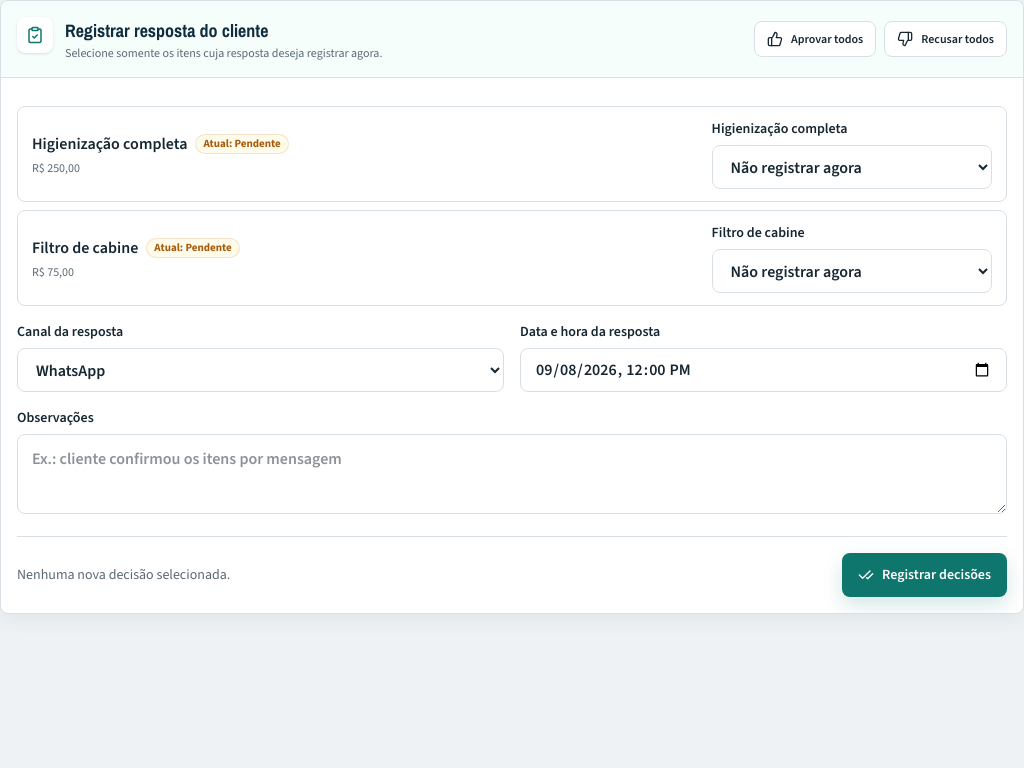
Test: painel de aprovação › impede o envio sem qualquer decisão
This screenshot has width=1024, height=768.
Click the button "Registrar decisões": (924, 575) left=842, top=553, right=1007, bottom=597
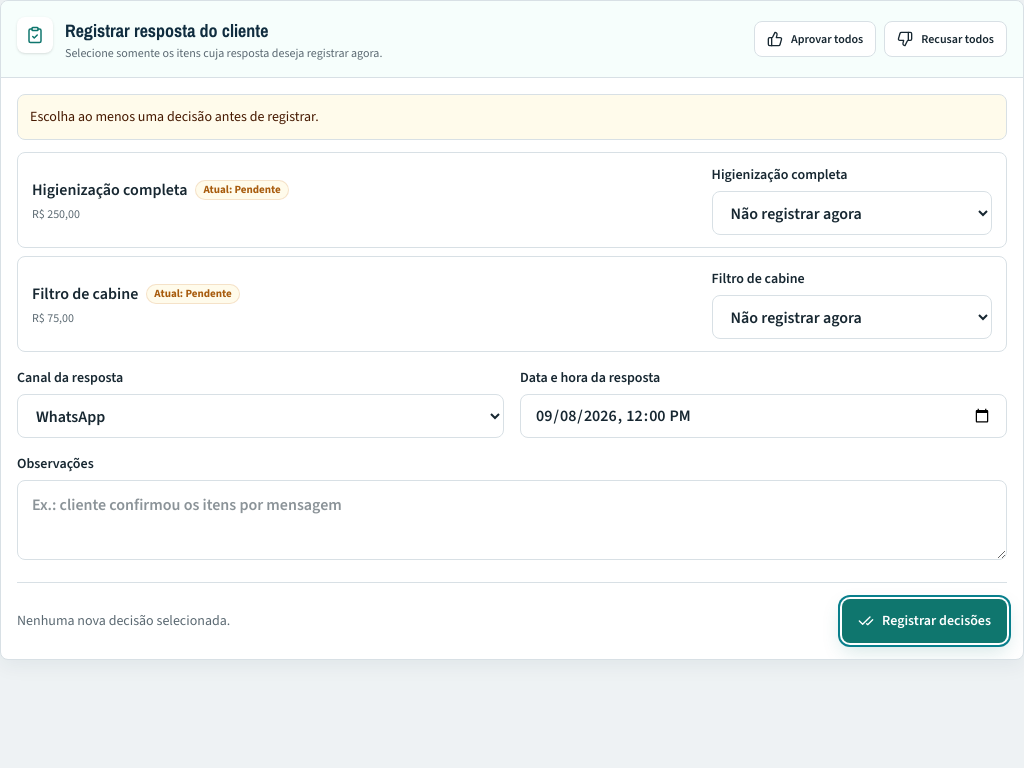
Result: the message shows "Escolha ao menos uma decisão" at left=30, top=107, right=319, bottom=126
